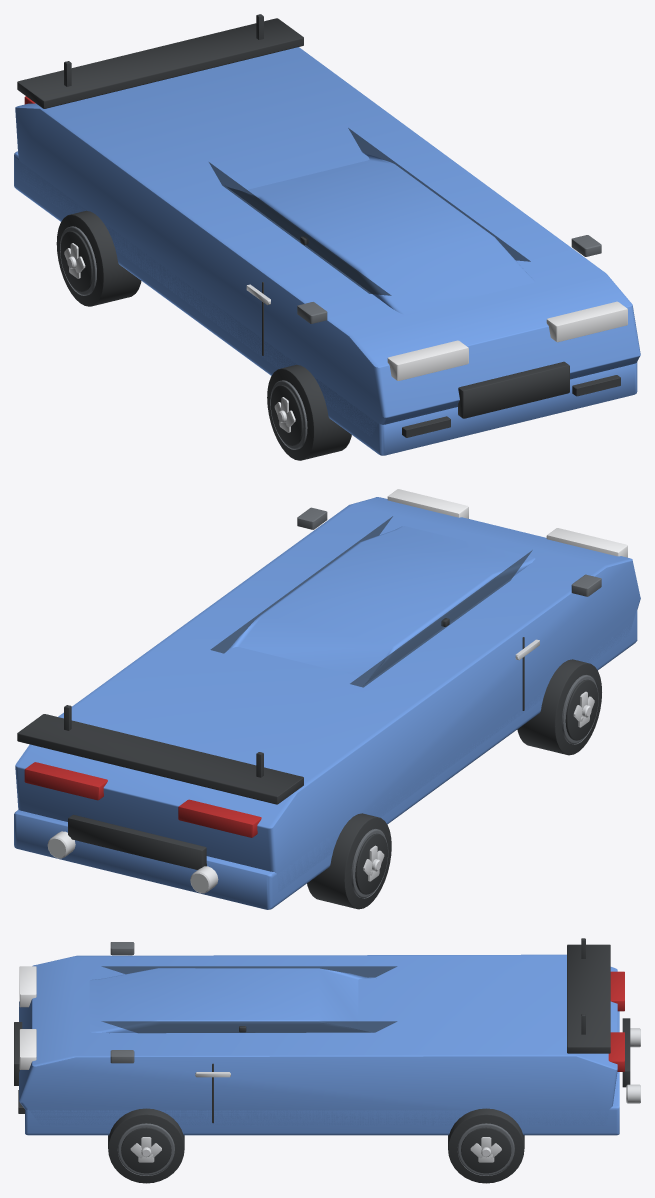
File: voltstrike-zr.glb
3 renders of one model, top to bottom at view 1: azimuth 30°, elevation 25°; view 2: azimuth 150°, elevation 25°; view 3: azimuth 270°, elevation 25°, orthographic. The views are drawn at different scales.
Parts seen in each view (by area): view 1: paint, trim, head, glass, accent, rim; view 2: paint, trim, tail, glass, rim, head, accent; view 3: paint, trim, glass, accent, rim, head, tail.
Boxes of the visible parts, left/top/right/bottom form: paint: left=14, top=47, right=640, bottom=455; trim: left=17, top=14, right=620, bottom=460; head: left=387, top=301, right=627, bottom=380; glass: left=209, top=128, right=530, bottom=295; accent: left=60, top=226, right=601, bottom=449; rim: left=64, top=243, right=295, bottom=432; paint: left=14, top=497, right=640, bottom=909; trim: left=17, top=618, right=601, bottom=909; tail: left=24, top=762, right=261, bottom=837; glass: left=210, top=516, right=532, bottom=687; rim: left=47, top=639, right=594, bottom=893; head: left=387, top=489, right=627, bottom=557; accent: left=297, top=507, right=601, bottom=898; paint: left=19, top=954, right=619, bottom=1135; trim: left=14, top=938, right=630, bottom=1183; glass: left=102, top=966, right=396, bottom=1033; accent: left=110, top=942, right=514, bottom=1175; rim: left=130, top=1028, right=640, bottom=1162; head: left=19, top=966, right=36, bottom=1069; tail: left=608, top=971, right=624, bottom=1071.
Size of the model in its own units: 2.18 by 1.25 by 4.75.
